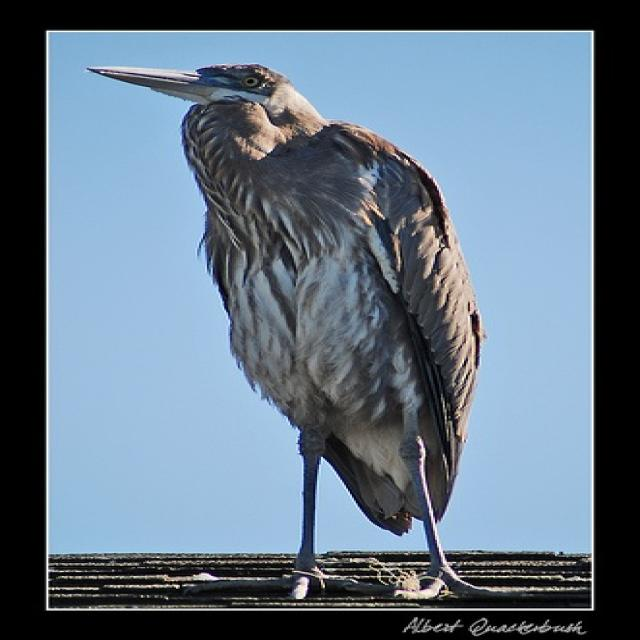bird: (79, 60, 536, 602)
